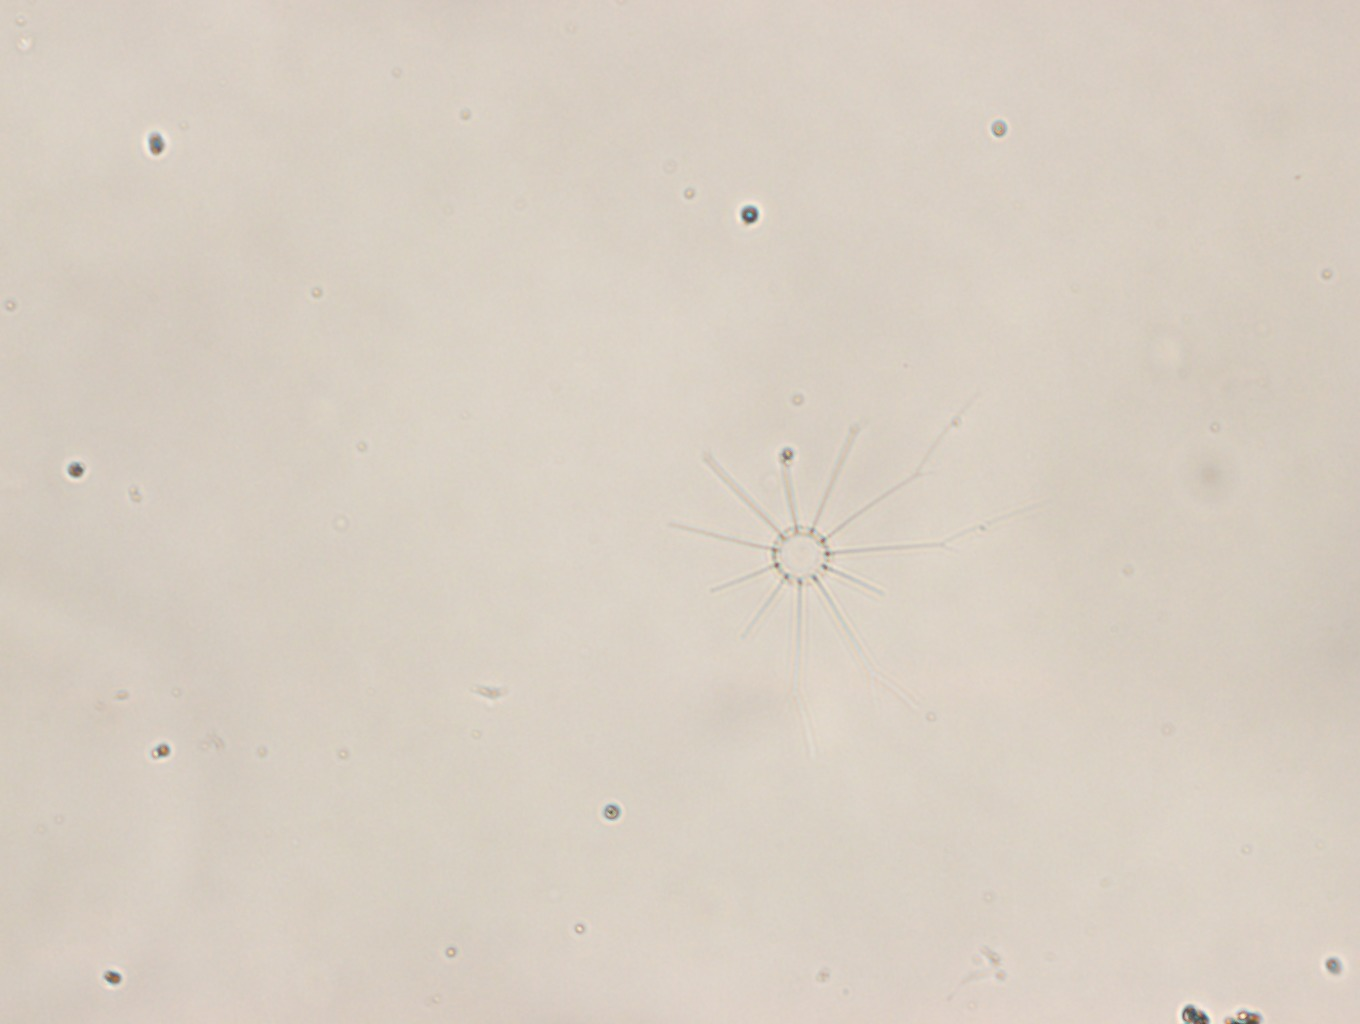bacteriastrum: (663, 375, 1029, 695)
